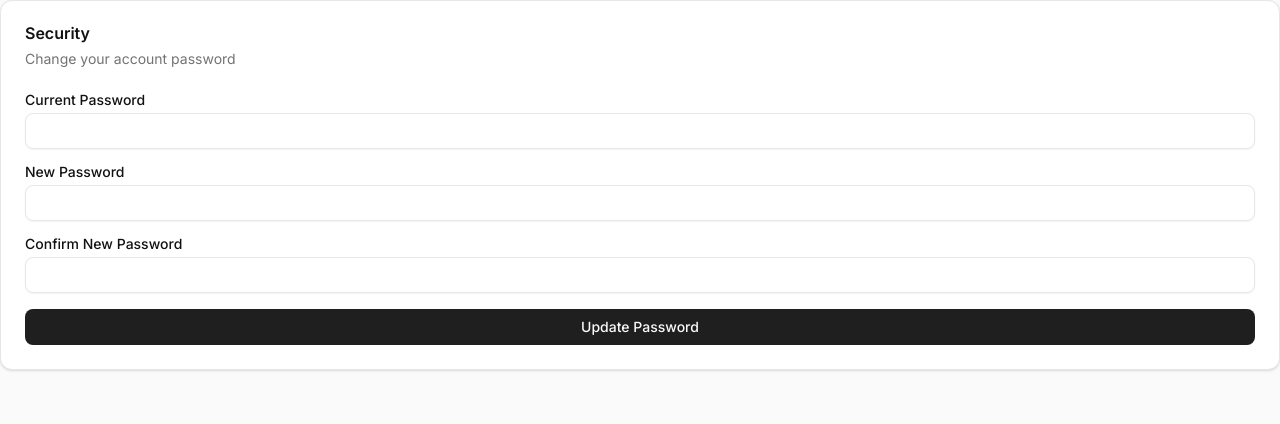
Test: clears a previous success status before showing a subsequent password error
The image size is (1280, 424).
Type "legacy" into the password field labelled "Current Password" at point(640, 131), box [25,113,1255,149]
Type "newpass123" into the password field labelled "New Password" at point(640, 203), box [25,185,1255,221]
Type "newpass123" into the password field labelled "Confirm New Password" at point(640, 275), box [25,257,1255,293]
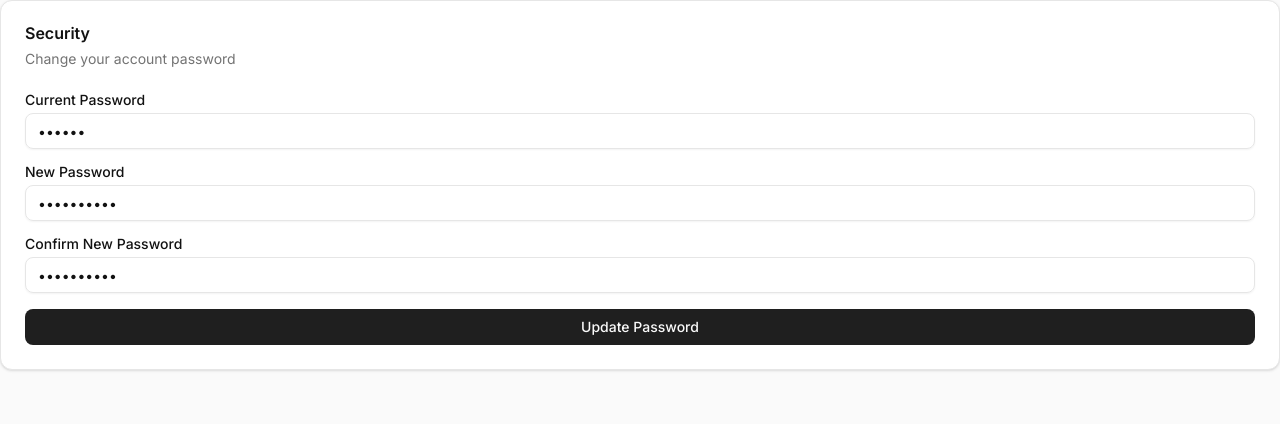
Click the button "Update Password" at point(640, 327), box [25,309,1255,345]
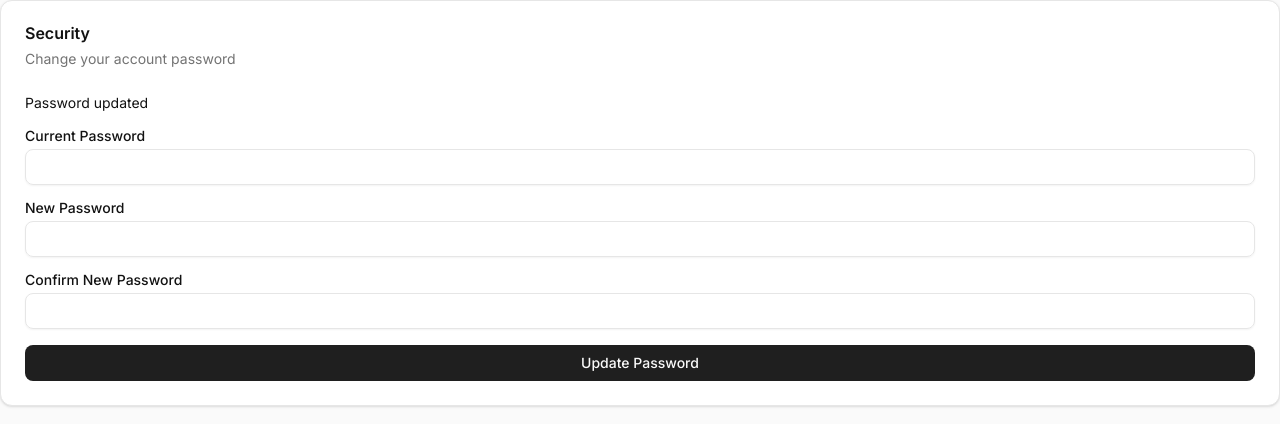
Expected: the text "Password updated" is shown, [25,94,148,111]
Type "wrong-current" into the password field labelled "Current Password" at point(640, 167), box [25,149,1255,185]
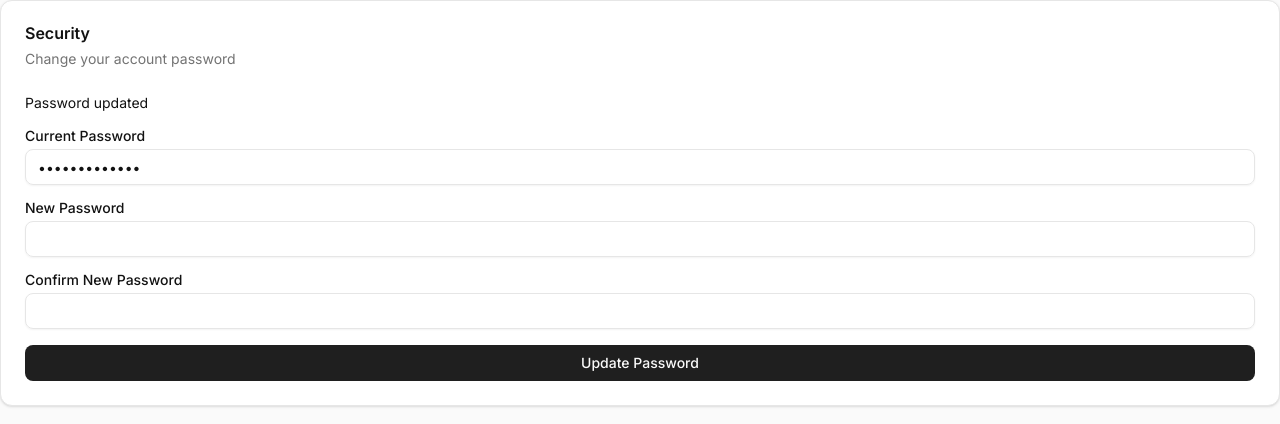
Type "otherpass123" into the password field labelled "New Password" at point(640, 239), box [25,221,1255,257]
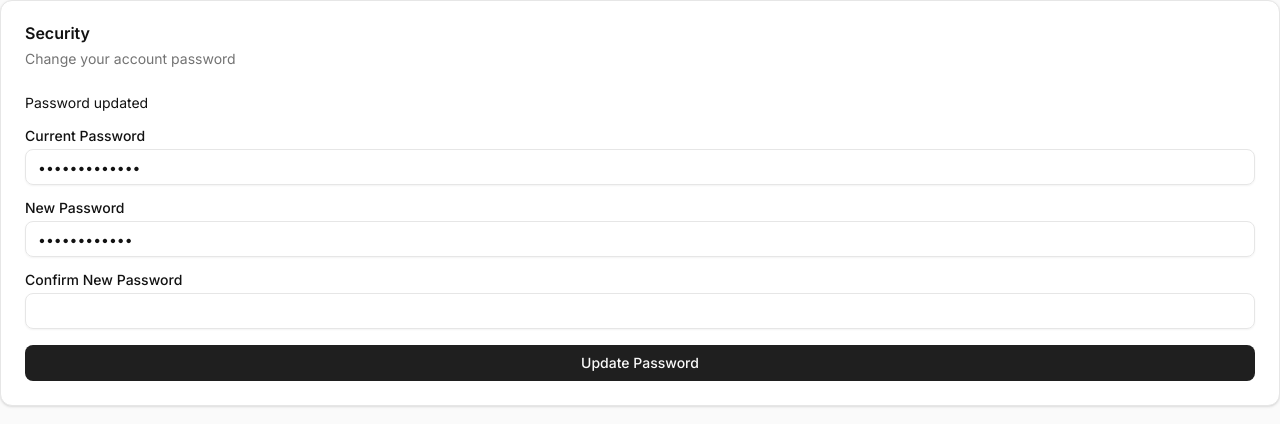
Type "otherpass123" into the password field labelled "Confirm New Password" at point(640, 311), box [25,293,1255,329]
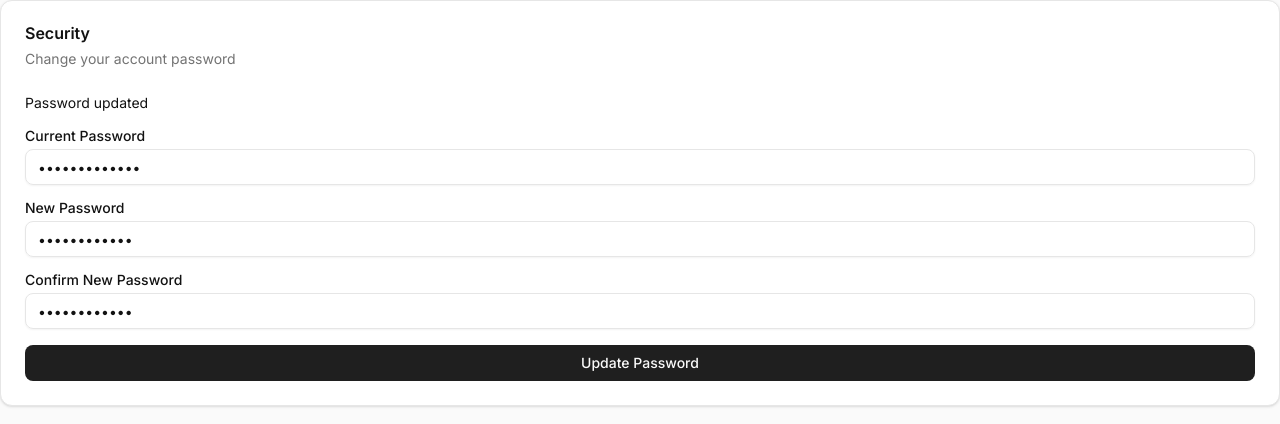
Click the button "Update Password" at point(640, 363), box [25,345,1255,381]
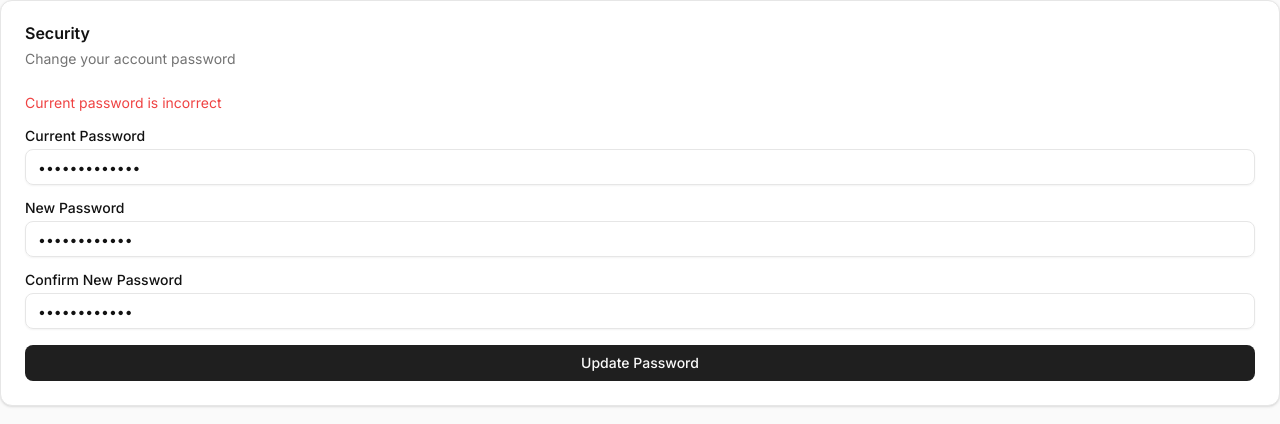
Expected: the message reads "Current password is incorrect", [25,94,222,111]
